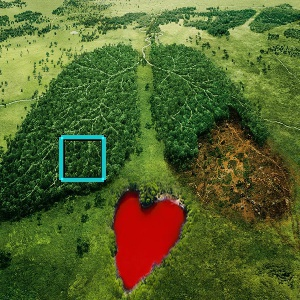square: (56, 132, 107, 185)
